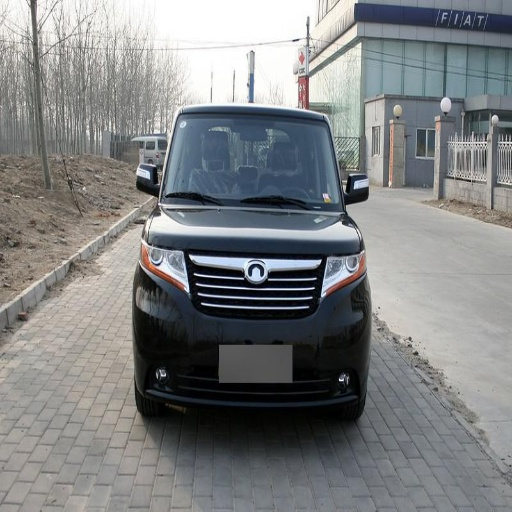front_bumper: (132, 237, 364, 408)
front_right_light: (143, 232, 186, 285)
hood: (152, 198, 359, 254)
